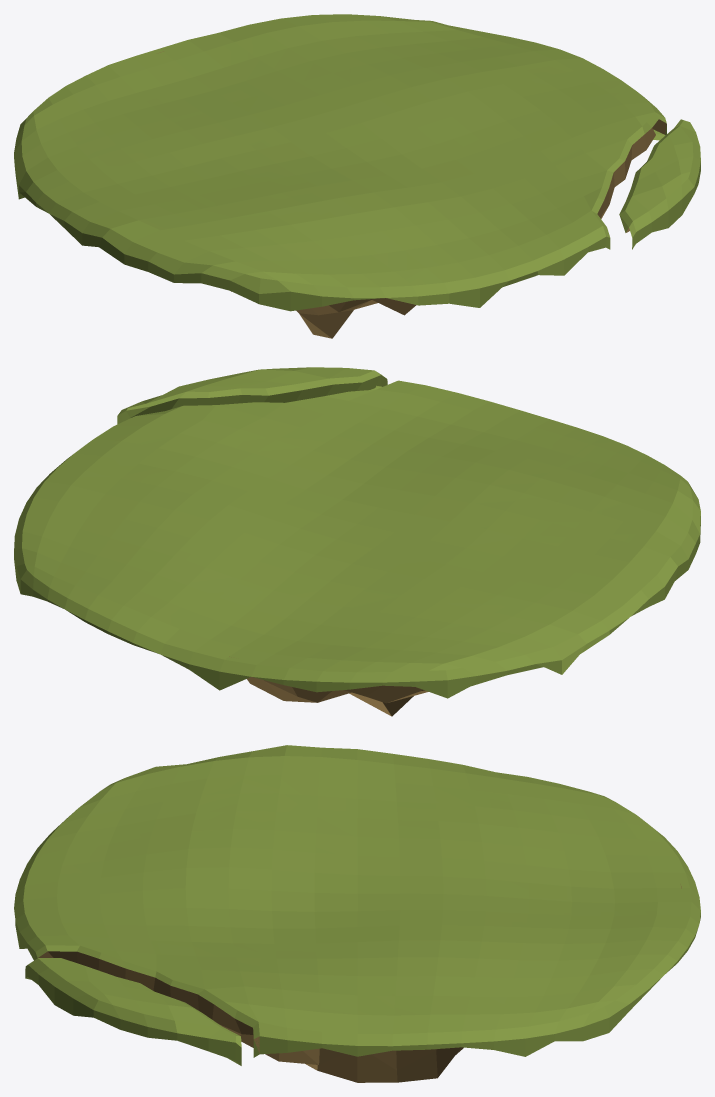
File: plateforme_moyen_2_v3.fbx
3 views of the same model, one above another, from view 1: azimuth 30°, elevation 25°; view 2: azimuth 150°, elevation 25°; view 3: azimuth 270°, elevation 25° (orthographic). The views are drawn at different scales.
Visible parts, largest first — view 1: Plane.001; view 2: Plane.001; view 3: Plane.001.
Part boxes in pixels (box(x1,y1,x2,y2)): Plane.001: box(14, 14, 700, 338); Plane.001: box(14, 367, 700, 716); Plane.001: box(14, 745, 700, 1082).
Bounding box in the file's own units: 669 × 216 × 663.
